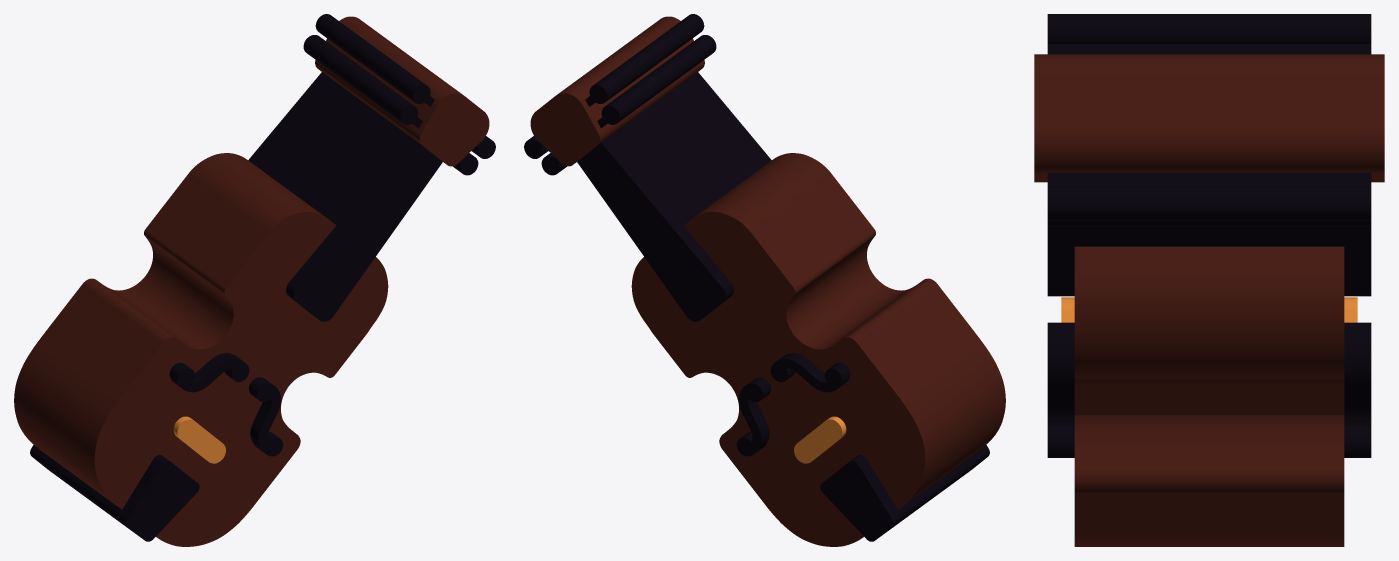
The picture shows the model from 3 angles, left to right: view 1: azimuth 30°, elevation 25°; view 2: azimuth 150°, elevation 25°; view 3: azimuth 270°, elevation 25°; orthographic projection. The views are drawn at different scales.
Visible parts, largest first — view 1: U+1F3BB_layer00_obj00, U+1F3BB_layer02_obj00, U+1F3BB_layer03_obj00, U+1F3BB_layer01_obj00; view 2: U+1F3BB_layer00_obj00, U+1F3BB_layer02_obj00, U+1F3BB_layer03_obj00, U+1F3BB_layer01_obj00; view 3: U+1F3BB_layer00_obj00, U+1F3BB_layer02_obj00, U+1F3BB_layer03_obj00, U+1F3BB_layer01_obj00.
Part boxes in pixels (left/top/right/bottom): U+1F3BB_layer00_obj00: left=14, top=153, right=388, bottom=546; U+1F3BB_layer02_obj00: left=30, top=14, right=495, bottom=541; U+1F3BB_layer03_obj00: left=315, top=16, right=489, bottom=166; U+1F3BB_layer01_obj00: left=173, top=416, right=225, bottom=463; U+1F3BB_layer00_obj00: left=631, top=153, right=1005, bottom=546; U+1F3BB_layer02_obj00: left=524, top=14, right=989, bottom=541; U+1F3BB_layer03_obj00: left=530, top=16, right=704, bottom=166; U+1F3BB_layer01_obj00: left=794, top=416, right=846, bottom=463; U+1F3BB_layer00_obj00: left=1074, top=246, right=1344, bottom=546; U+1F3BB_layer02_obj00: left=1047, top=14, right=1371, bottom=457; U+1F3BB_layer03_obj00: left=1034, top=54, right=1384, bottom=182; U+1F3BB_layer01_obj00: left=1061, top=297, right=1357, bottom=322.
Size of the model in its own units: 0.5636 by 0.5677 by 0.26.
